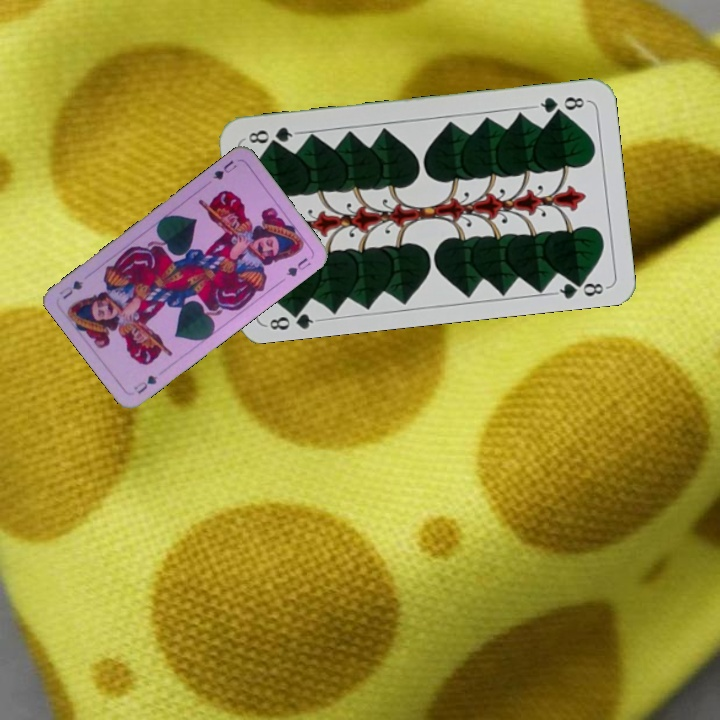G8: (263, 303, 322, 333), (531, 92, 590, 117)
GU: (209, 156, 239, 183), (130, 371, 160, 397)
